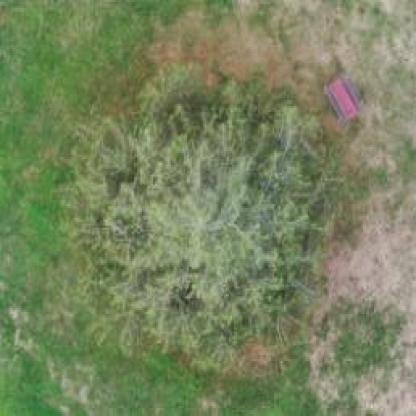Coniferous Tree: (66, 49, 340, 357)
